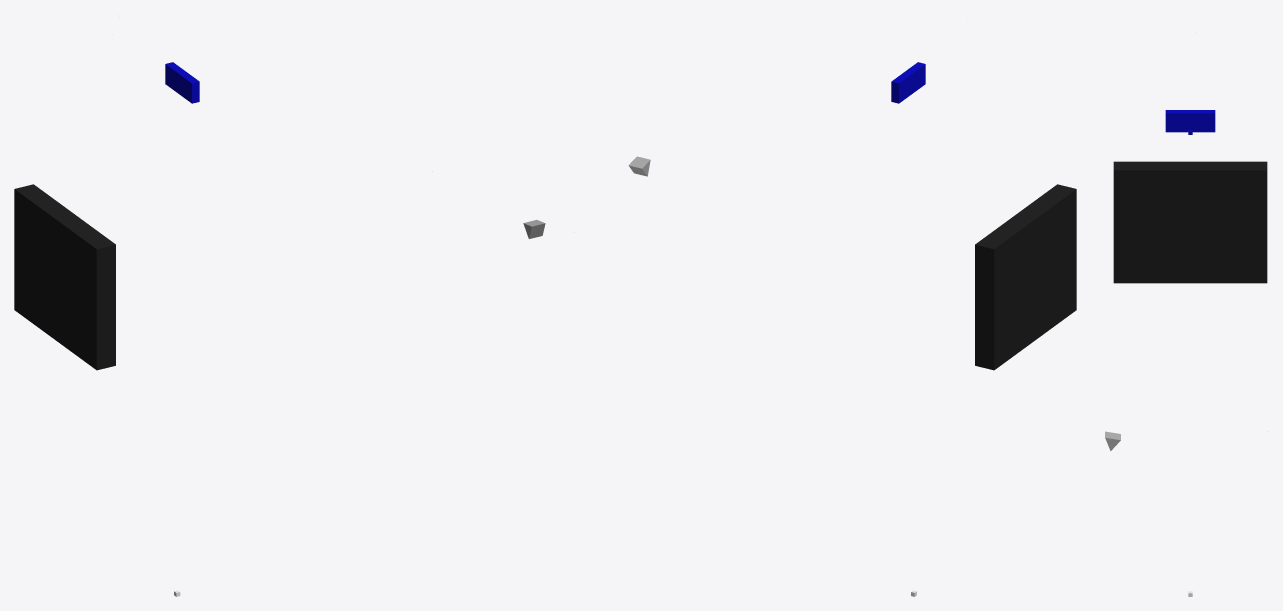
The picture shows the model from 3 angles, left to right: view 1: azimuth 30°, elevation 25°; view 2: azimuth 150°, elevation 25°; view 3: azimuth 270°, elevation 25°; orthographic projection. The views are drawn at different scales.
Visible parts, largest first — view 1: base_bellow_link, double_stereo_link; view 2: base_bellow_link, double_stereo_link; view 3: base_bellow_link, double_stereo_link.
Part boxes in pixels (bbox=[...]): base_bellow_link: bbox=[14, 184, 115, 370]; double_stereo_link: bbox=[165, 62, 199, 103]; base_bellow_link: bbox=[975, 184, 1076, 370]; double_stereo_link: bbox=[891, 62, 925, 103]; base_bellow_link: bbox=[1113, 161, 1267, 283]; double_stereo_link: bbox=[1165, 110, 1215, 132].
Bounding box in the file's own units: 1.15 × 0.3937 × 1.47.
